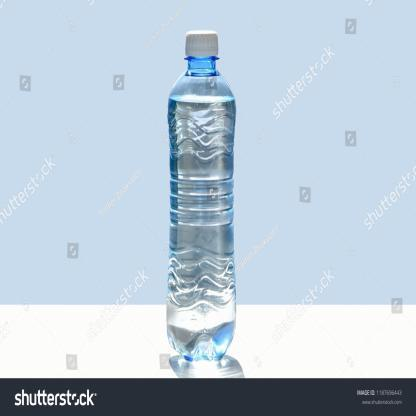bottle: (160, 16, 242, 367)
